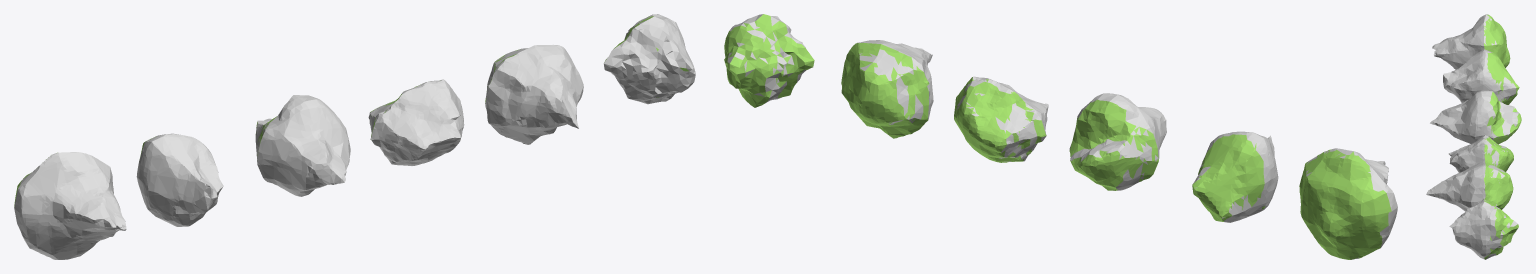
Rendered from Cliff Islands.fbx.
3 views of the same model, side by side, from view 1: azimuth 30°, elevation 25°; view 2: azimuth 150°, elevation 25°; view 3: azimuth 270°, elevation 25° (orthographic). The views are drawn at different scales.
Visible parts, largest first — view 1: Cliff Island 3, Cliff Island 7, Cliff Island 5, Cliff Island 4, Cliff Island 2, Cliff Island 6; view 2: Cliff Island 3, Cliff Island 7, Cliff Island 5, Cliff Island 4, Cliff Island 2, Cliff Island 6; view 3: Cliff Island 5, Cliff Island 7, Cliff Island 6, Cliff Island 4, Cliff Island 3, Cliff Island 2.
Part boxes in pixels (left/top/right/bottom): Cliff Island 3: left=14, top=152, right=126, bottom=259; Cliff Island 7: left=485, top=44, right=583, bottom=144; Cliff Island 5: left=255, top=95, right=350, bottom=196; Cliff Island 4: left=136, top=133, right=223, bottom=226; Cliff Island 2: left=368, top=79, right=464, bottom=165; Cliff Island 6: left=603, top=14, right=695, bottom=104; Cliff Island 3: left=1299, top=148, right=1397, bottom=259; Cliff Island 7: left=841, top=40, right=933, bottom=138; Cliff Island 5: left=1069, top=93, right=1166, bottom=190; Cliff Island 4: left=1192, top=131, right=1278, bottom=222; Cliff Island 2: left=954, top=76, right=1048, bottom=162; Cliff Island 6: left=724, top=14, right=814, bottom=107; Cliff Island 5: left=1430, top=90, right=1521, bottom=144; Cliff Island 7: left=1426, top=160, right=1513, bottom=211; Cliff Island 6: left=1449, top=199, right=1518, bottom=259; Cliff Island 4: left=1443, top=49, right=1519, bottom=104; Cliff Island 3: left=1432, top=14, right=1510, bottom=69; Cliff Island 2: left=1448, top=135, right=1513, bottom=172.
Bounding box in the file's own units: 1163 × 181 × 230.
